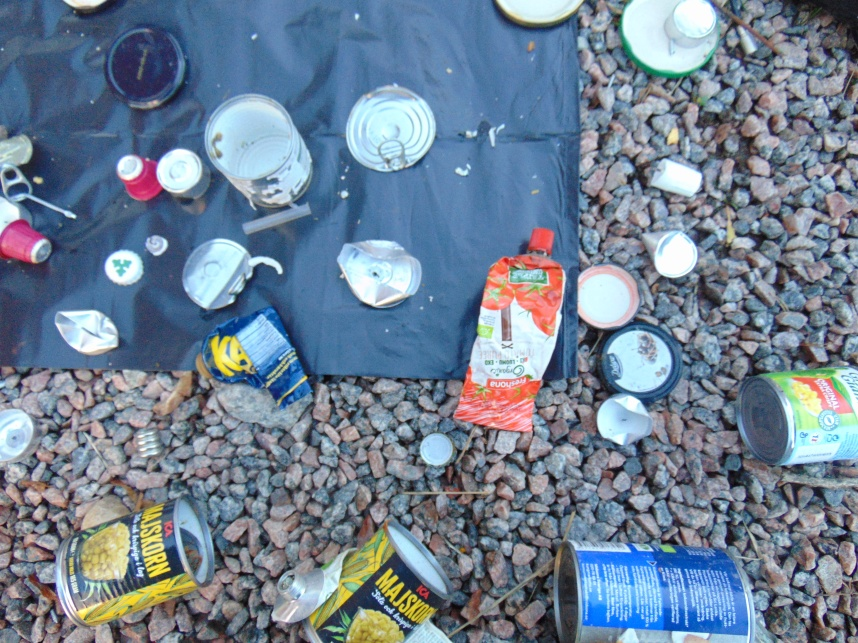metal: (452, 247, 568, 436), (197, 307, 311, 405), (346, 84, 438, 172), (618, 1, 719, 76), (106, 26, 187, 109), (598, 324, 683, 400), (338, 239, 423, 309), (181, 237, 256, 308), (269, 555, 342, 621), (577, 261, 641, 330), (636, 228, 700, 283), (156, 147, 212, 203), (596, 393, 654, 445), (53, 311, 122, 353), (490, 1, 587, 29), (2, 182, 77, 218), (662, 1, 720, 45), (114, 152, 163, 203), (1, 131, 35, 200), (1, 218, 50, 263), (1, 408, 40, 462), (417, 430, 457, 470), (1, 194, 33, 224), (134, 428, 163, 459), (62, 1, 110, 11)
metal_can: (550, 537, 759, 642), (55, 495, 217, 630), (301, 519, 448, 643), (204, 93, 315, 211), (735, 363, 858, 464)
